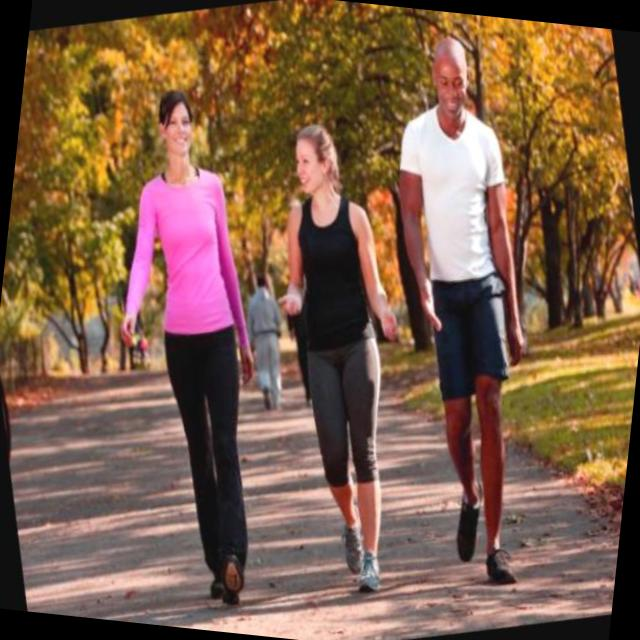person: (308, 9, 626, 624), (27, 50, 354, 639), (197, 88, 480, 625)
